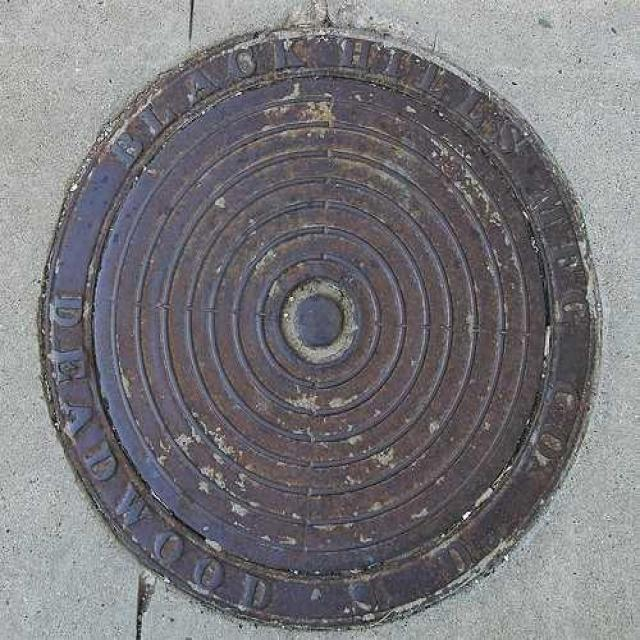manhole: (40, 31, 598, 624)
